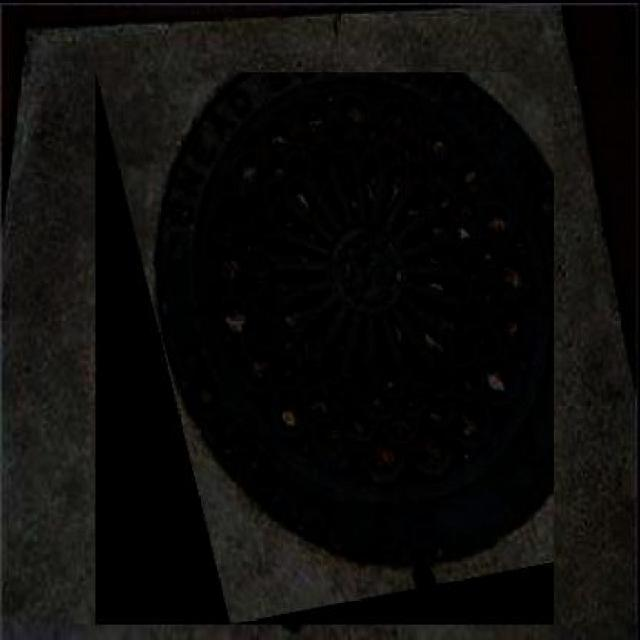Manhole: (95, 72, 554, 625)
